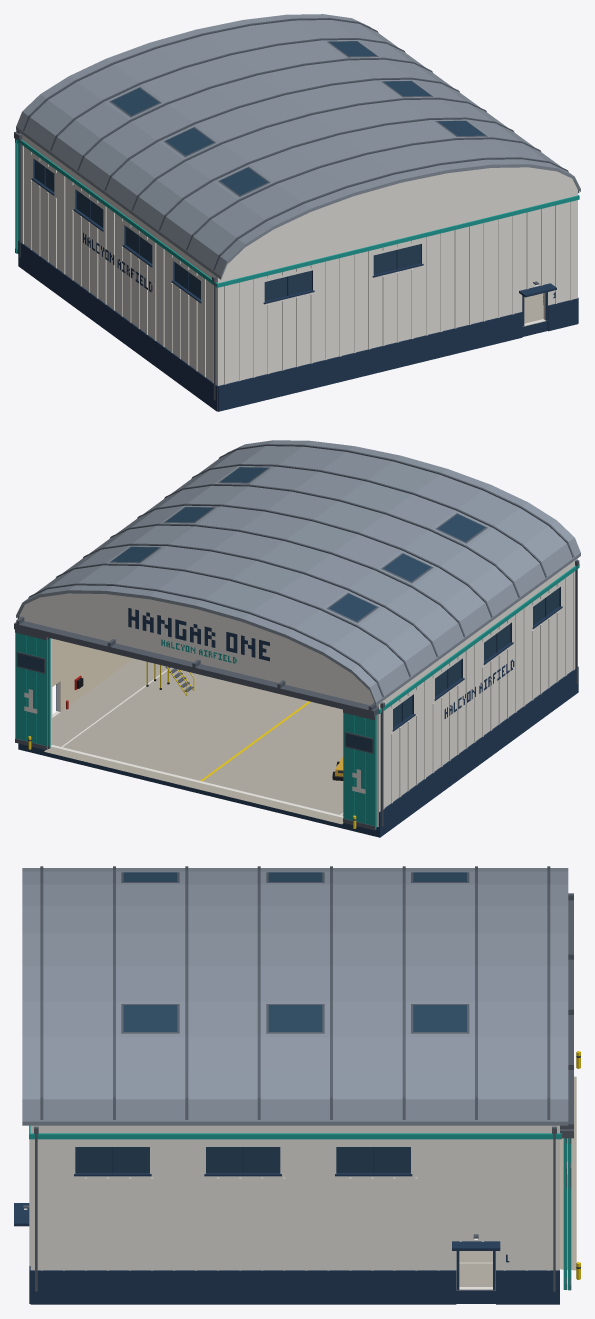
File: airport_hangar.glb
3 renders of one model, top to bottom at view 1: azimuth 30°, elevation 25°; view 2: azimuth 150°, elevation 25°; view 3: azimuth 270°, elevation 25°, orthographic. The views are drawn at different scales.
Parts seen in each view (by area): view 1: Building, Building_Detail, Building_Glass; view 2: Building, Building_Detail, Building_Glass, Building_Interior; view 3: Building, Building_Detail, Building_Glass.
Part boxes in pixels (bbox=[...]): Building: bbox=[14, 14, 580, 411]; Building_Detail: bbox=[15, 18, 579, 400]; Building_Glass: bbox=[35, 41, 485, 301]; Building: bbox=[14, 440, 580, 837]; Building_Detail: bbox=[15, 444, 579, 830]; Building_Glass: bbox=[17, 467, 559, 752]; Building_Interior: bbox=[66, 662, 343, 780]; Building: bbox=[22, 868, 580, 1304]; Building_Detail: bbox=[14, 866, 573, 1291]; Building_Glass: bbox=[75, 872, 466, 1172].
Size of the model in its own units: 30.83 by 15.09 by 30.43.
